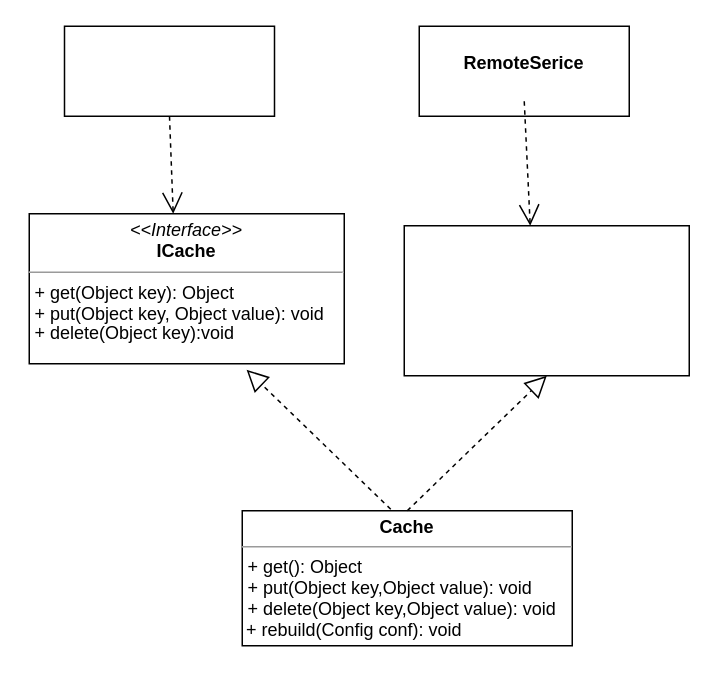
This 716x680 diagram has some shape labels left out. Each missing label, with the centre of its shape:
<<Interface>> IRebuildCache + reBuild(Config conf): void: the point at 546,300
AppService: the point at 168,70
